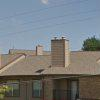Chimney: (43, 26, 76, 68)
